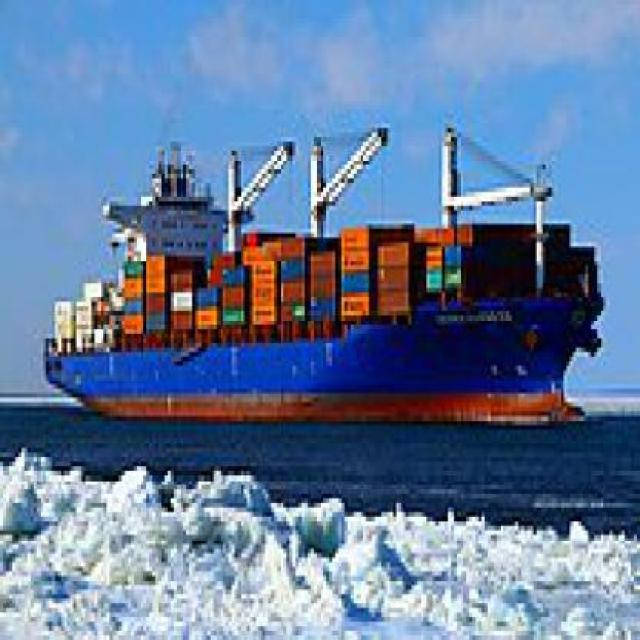container: (34, 116, 614, 440)
